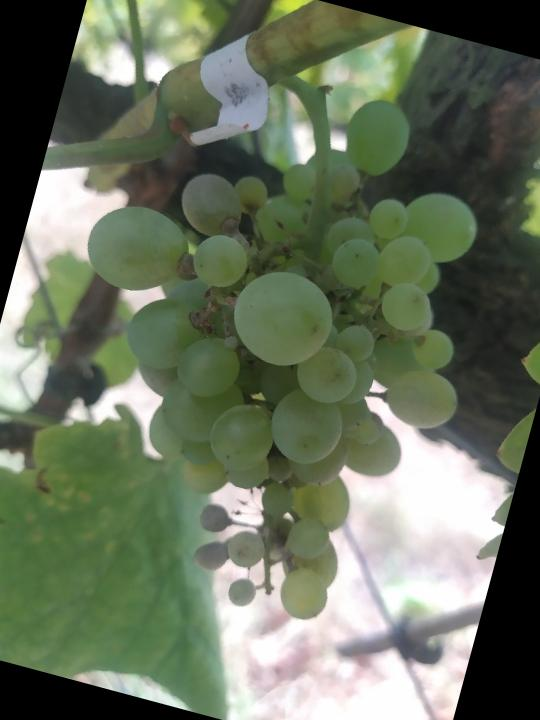grape: (3, 33, 534, 652)
